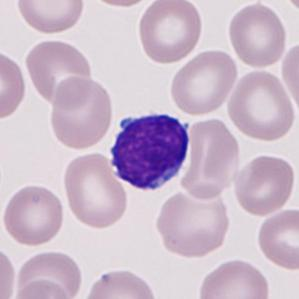Lymphocyte: (105, 106, 195, 194)
RBC: (153, 185, 232, 260), (224, 67, 298, 143), (61, 150, 130, 231), (179, 115, 244, 199), (168, 47, 240, 117), (48, 75, 115, 150), (23, 36, 93, 107), (0, 181, 67, 248), (135, 0, 204, 65), (225, 1, 290, 69), (231, 152, 297, 218), (12, 247, 85, 299), (195, 256, 273, 299), (255, 206, 298, 272), (79, 265, 160, 299), (14, 0, 87, 36), (0, 47, 29, 123), (51, 74, 93, 113), (279, 38, 299, 113), (9, 277, 74, 299), (0, 244, 18, 298), (82, 0, 158, 9), (280, 0, 299, 17)
